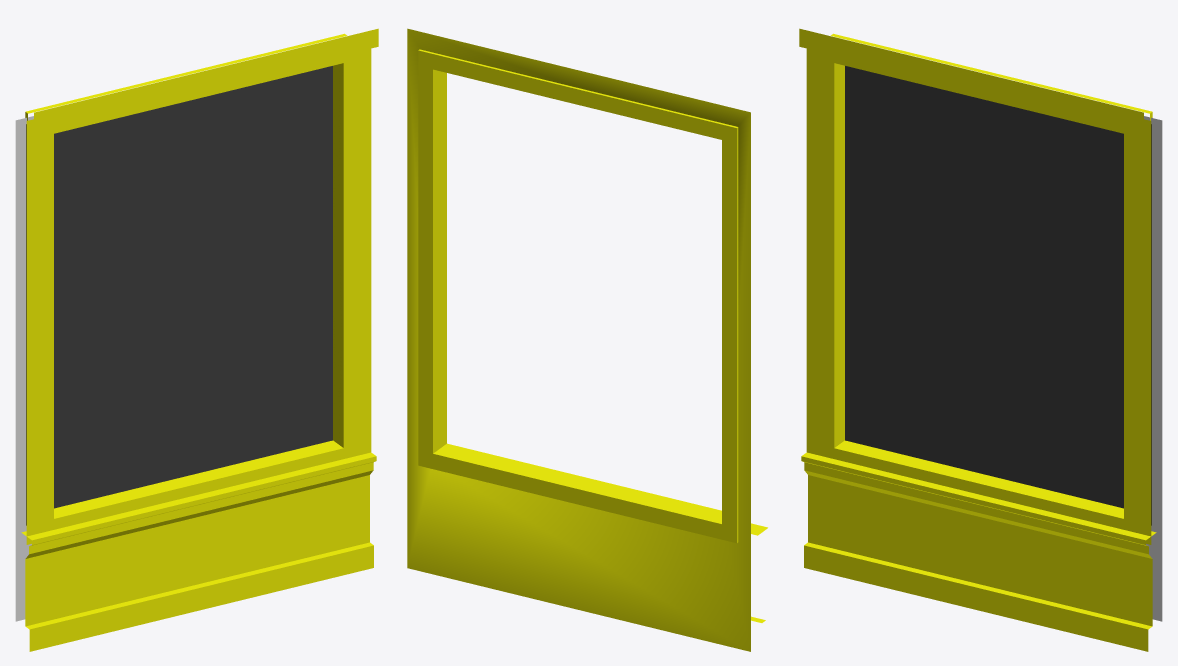
File: trim-firstfloor-window-001.glb
3 views of the same model, side by side, from view 1: azimuth 30°, elevation 25°; view 2: azimuth 150°, elevation 25°; view 3: azimuth 330°, elevation 25° (orthographic).
Parts seen in each view (by area): view 1: Trim_FirstFloor_Window.001; view 2: Trim_FirstFloor_Window.001; view 3: Trim_FirstFloor_Window.001.
Boxes of the visible parts, x1,y1,x2,y2 form: Trim_FirstFloor_Window.001: (15, 28, 378, 651); Trim_FirstFloor_Window.001: (407, 28, 767, 651); Trim_FirstFloor_Window.001: (799, 28, 1162, 651).
Bounding box in the file's own units: 2 × 3.01 × 0.2151.
4 materials, 2 textured.
